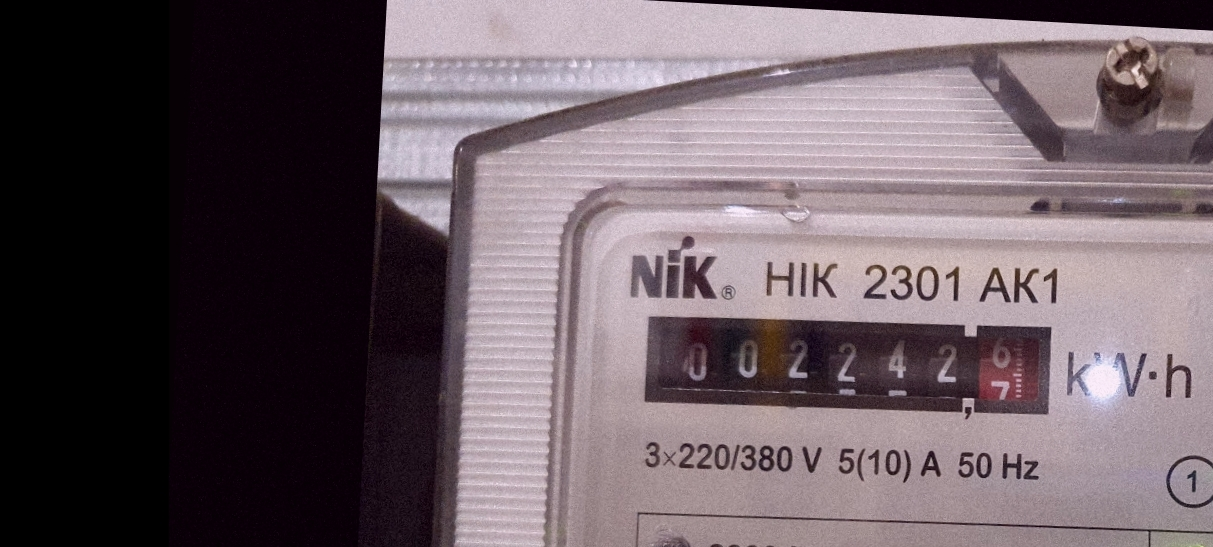0: (735, 335, 762, 379), (686, 337, 711, 383), (787, 336, 813, 380)
2: (934, 340, 961, 385), (835, 339, 861, 384)
4: (885, 336, 911, 380)
6: (990, 335, 1015, 369)
7: (988, 377, 1013, 401)
screen: (634, 293, 1071, 438)
